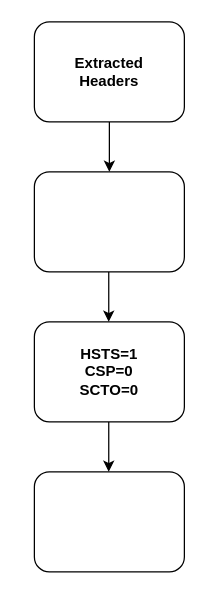
This 218x594 diagram has some shape labels left out. Each missing label, with the centre of its shape:
"Binary Encoding" goes at (x=108, y=221).
"Sum of values -> Security Score" goes at (x=108, y=521).
